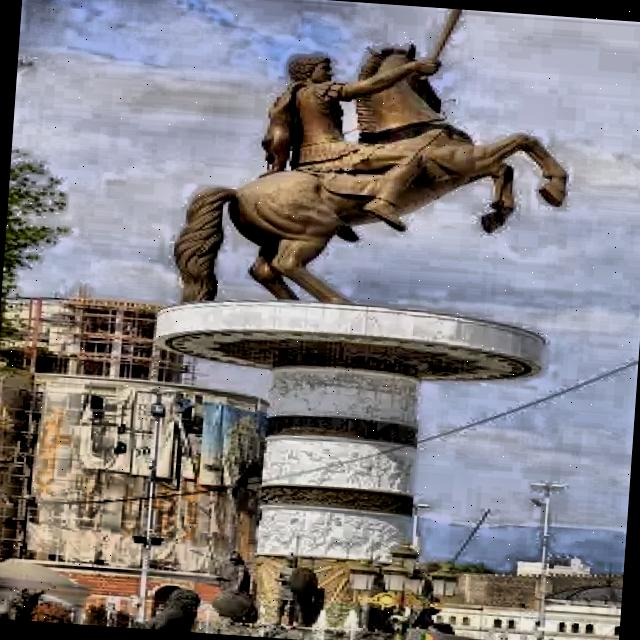alexander the great monument: (132, 0, 588, 640)
